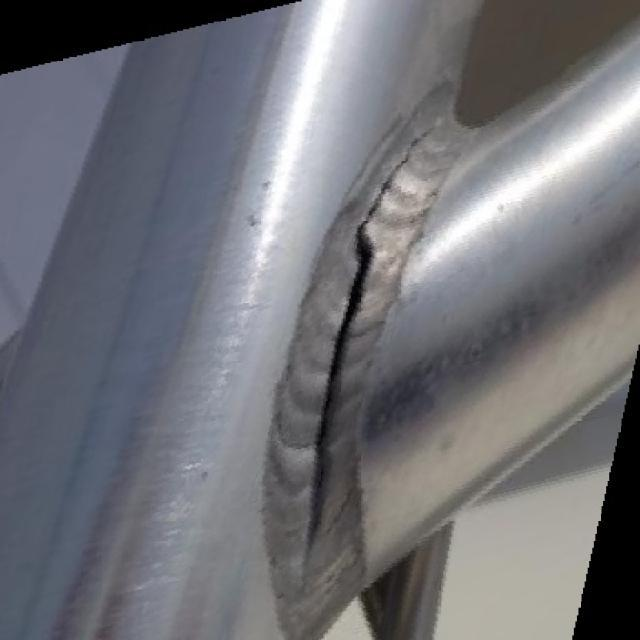crack: (302, 375, 338, 568), (335, 231, 368, 360), (369, 173, 400, 224), (401, 130, 430, 167)
